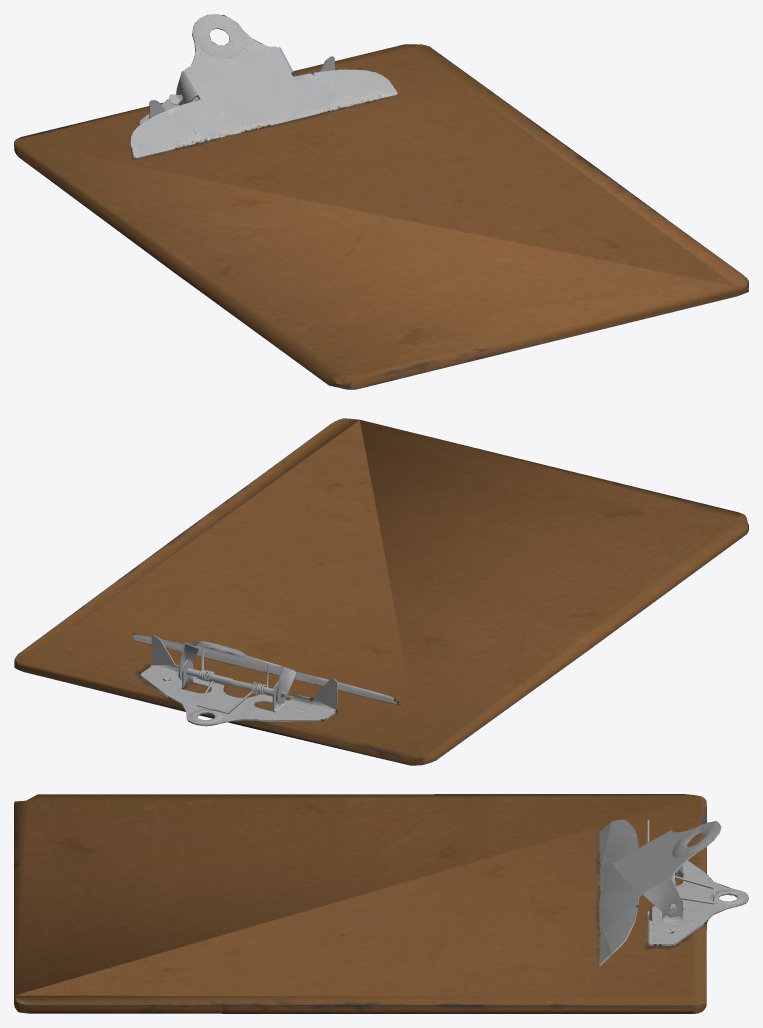
File: clipboard.glb
3 renders of one model, top to bottom at view 1: azimuth 30°, elevation 25°; view 2: azimuth 150°, elevation 25°; view 3: azimuth 270°, elevation 25°, orthographic. The views are drawn at different scales.
Visible parts, largest first — view 1: clipboard; view 2: clipboard; view 3: clipboard.
Boxes of the visible parts, x1,y1,x2,y2 form: clipboard: (14,14,748,389); clipboard: (14,418,748,765); clipboard: (14,794,748,1013).
Bounding box in the file's own units: 0.2283 × 0.042 × 0.3363.
Materials: 1 (1 with a texture image).
